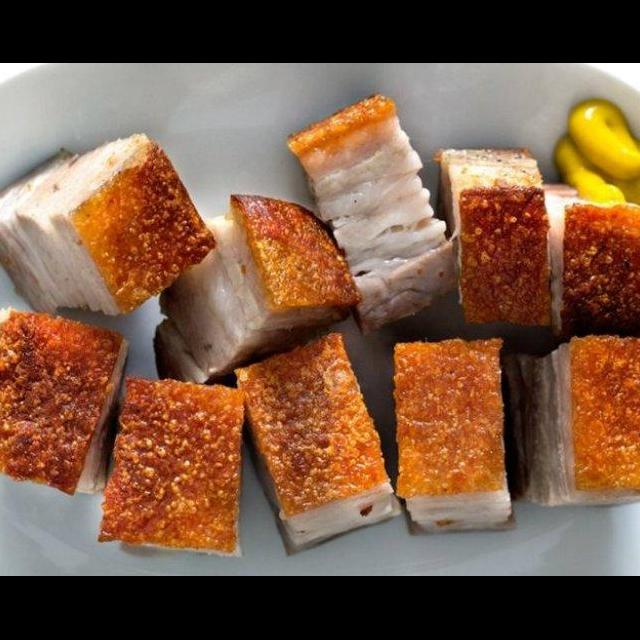thit heo quay: (146, 192, 366, 404), (283, 89, 464, 342), (0, 127, 223, 327), (226, 330, 408, 554), (92, 370, 258, 564), (386, 330, 531, 538), (0, 300, 135, 504), (428, 140, 561, 338), (518, 328, 640, 514), (533, 177, 640, 349)
